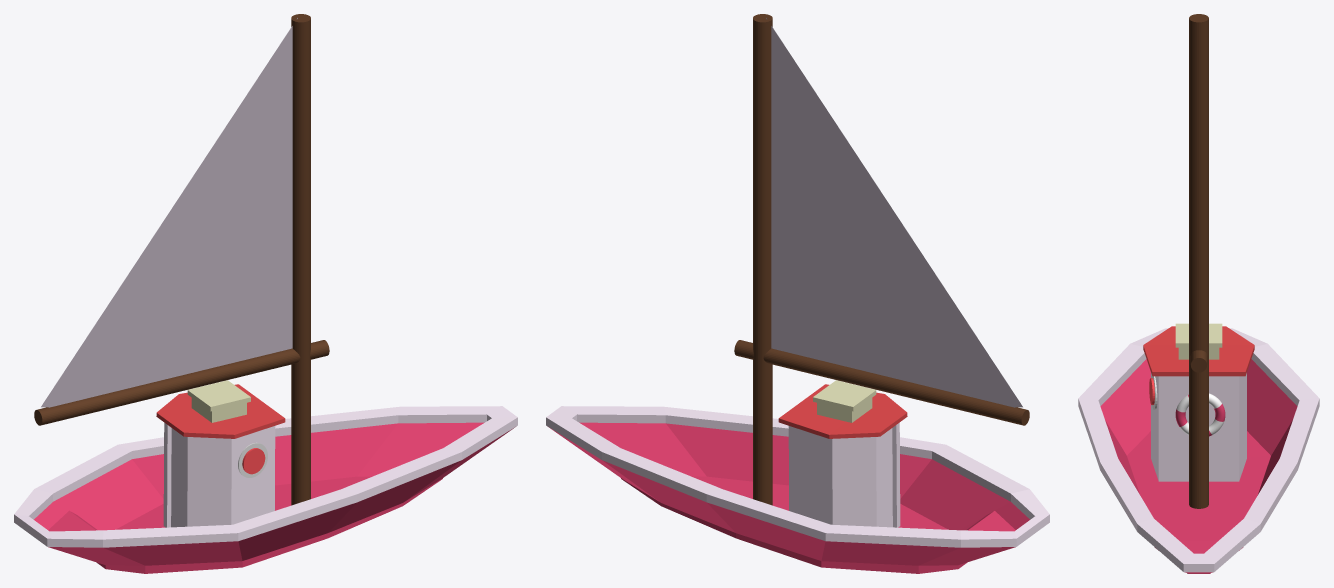
The model's file is boatyboi.fbx.
The picture shows the model from 3 angles, left to right: view 1: azimuth 30°, elevation 25°; view 2: azimuth 150°, elevation 25°; view 3: azimuth 270°, elevation 25°; orthographic projection.
Parts seen in each view (by area): view 1: Cube; view 2: Cube; view 3: Cube.
Boxes of the visible parts, <box> form: Cube: <box>14,14,517,573</box>; Cube: <box>546,14,1049,573</box>; Cube: <box>1078,14,1319,573</box>.
Bounding box in the file's own units: 1988 × 1962 × 867.
